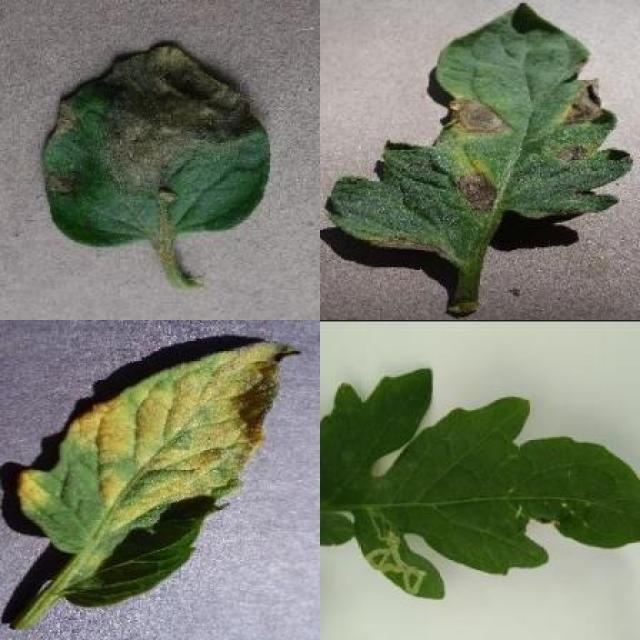Early Blight: (331, 3, 633, 264)
Late Blight: (41, 36, 270, 251)
Leaf Miner: (320, 367, 639, 603)
Leaf Mold: (18, 342, 301, 608)
